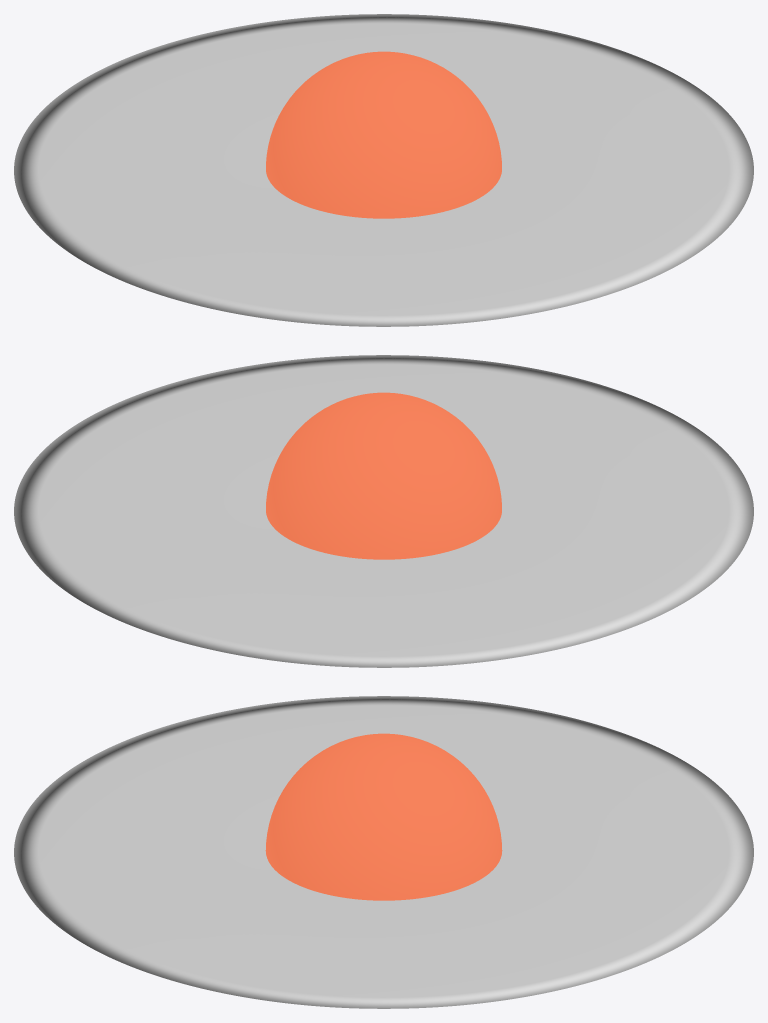
Rendered from BlackHole3D.glb.
3 views of the same model, one above another, from view 1: azimuth 30°, elevation 25°; view 2: azimuth 150°, elevation 25°; view 3: azimuth 270°, elevation 25° (orthographic).
Visible parts, largest first — view 1: accretion disc, blackhole center; view 2: accretion disc, blackhole center; view 3: accretion disc, blackhole center.
Boxes of the visible parts, x1,y1,x2,y2 form: accretion disc: [14, 14, 753, 326]; blackhole center: [266, 51, 501, 218]; accretion disc: [14, 355, 753, 667]; blackhole center: [266, 392, 501, 559]; accretion disc: [14, 696, 753, 1008]; blackhole center: [265, 733, 502, 900].
Bounding box in the file's own units: 6.26 × 2 × 6.26.
